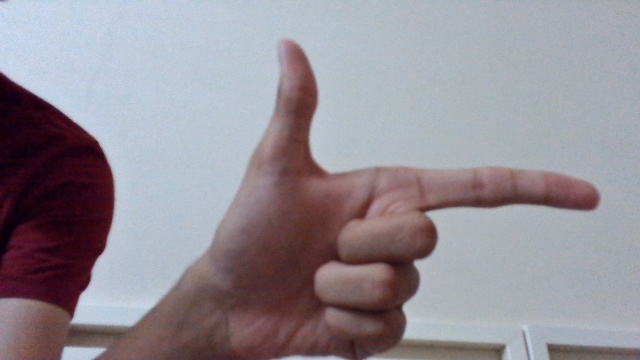Left: (214, 38, 603, 356)
